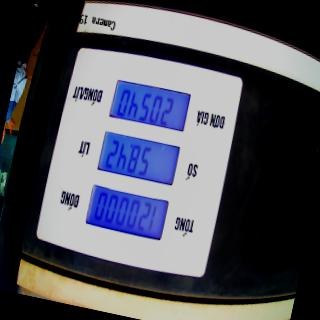screen: (81, 72, 194, 248)
